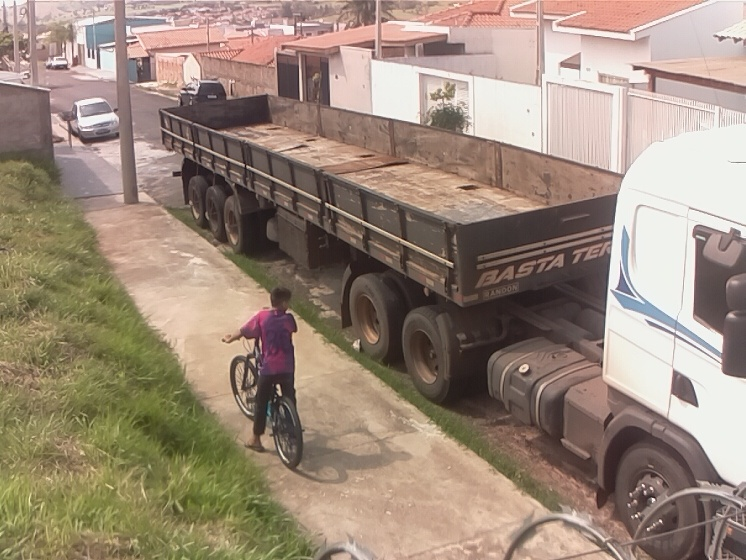person: (221, 286, 306, 458)
